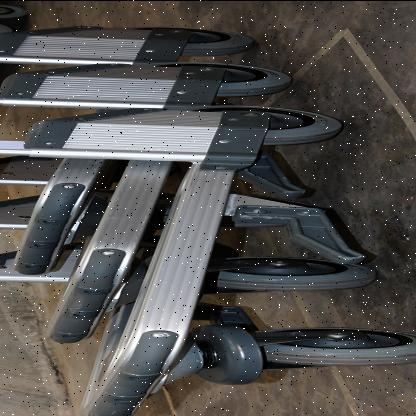airport-trolley: (0, 106, 416, 416), (0, 54, 300, 108), (0, 25, 282, 68)
